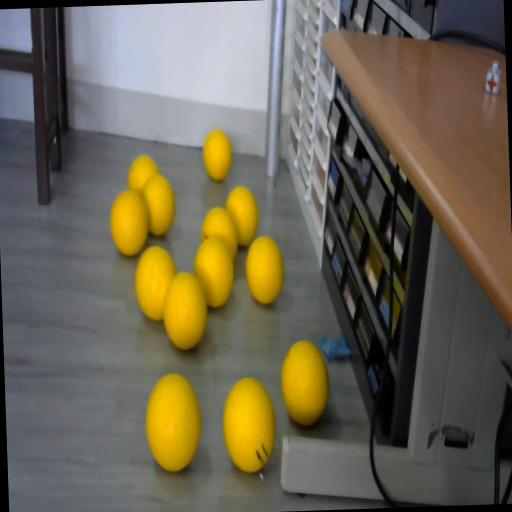FUEL: (142, 370, 202, 472), (220, 374, 277, 472), (280, 338, 330, 426), (134, 244, 178, 321), (192, 235, 236, 308), (244, 234, 286, 304), (108, 189, 150, 256), (141, 172, 176, 236), (224, 184, 260, 246), (202, 129, 232, 181)
